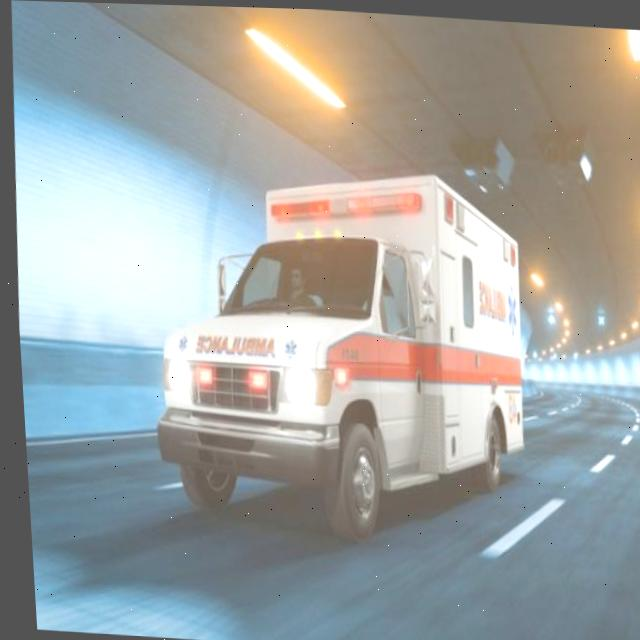emergency: (125, 152, 535, 559)
